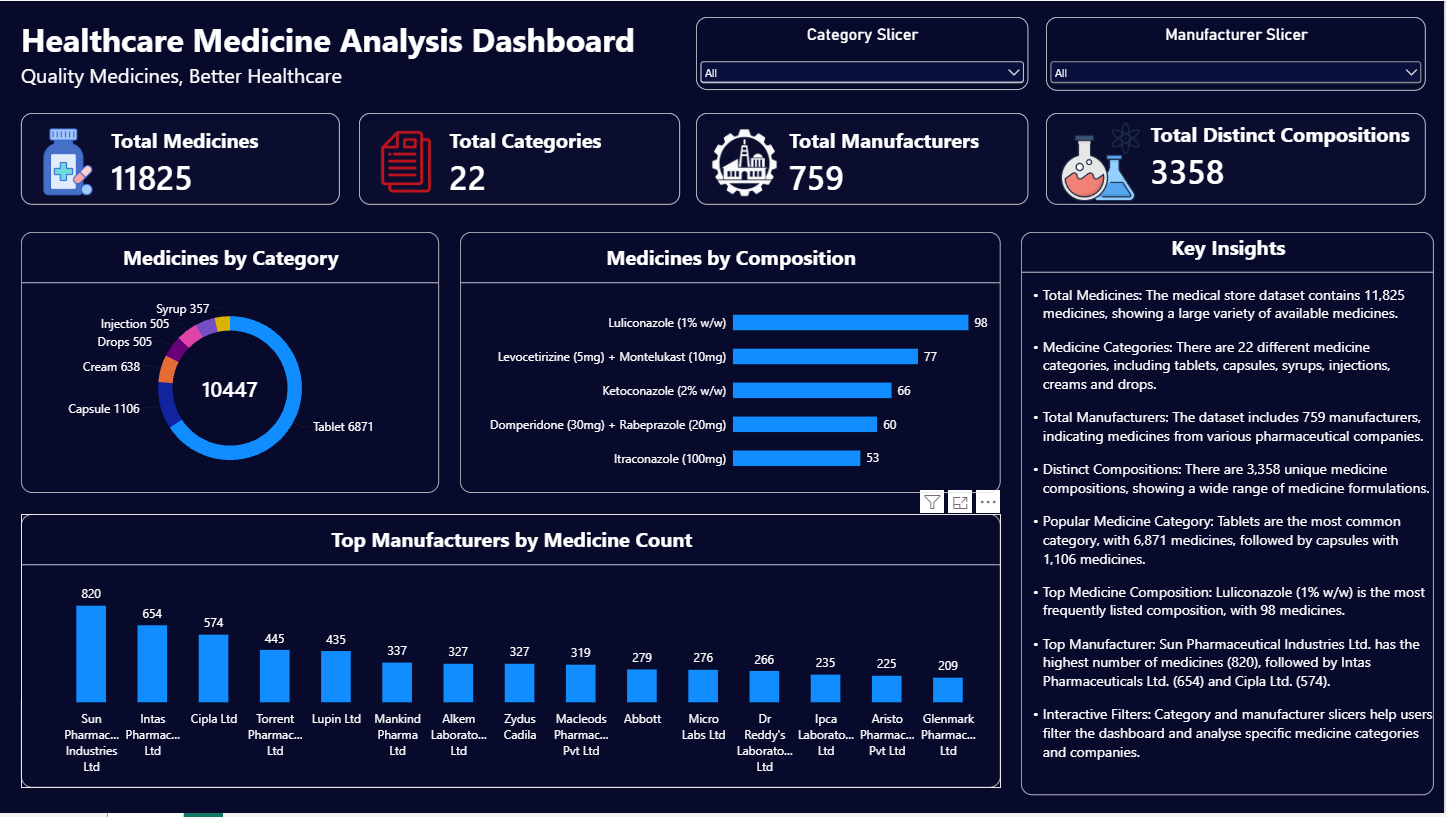

Layout of this report page (visuals, bound fields, positions):
{"tool":"powerbi","page":{"name":"Page 1","canvas":[1920,1080],"ordinal":0},"visuals":[{"type":"textbox","box":[27.9,21.3,853.9,78.5],"z":0},{"type":"cardVisual","fields":{"Data":["CountNonNull(Medicine_Details_Analysis.Medicine ID)"]},"box":[27.9,149,424.3,122.4],"z":1000},{"type":"cardVisual","title":"Total Manufacturer","fields":{"Data":["Medicine_Details_Analysis.Total Manufacturer"]},"box":[925.7,149,441.6,122.4],"z":2000},{"type":"cardVisual","title":"Total Category","fields":{"Data":["Count(Medicine_Details_Analysis.Category)"]},"box":[477.5,149,426.9,122.4],"z":3000},{"type":"donutChart","title":"Medicines by Category","fields":{"Category":["Medicine_Details_Analysis.Category"],"Y":["Count(Medicine_Details_Analysis.Medicine ID)"]},"box":[27.7,307.8,555.9,347.2],"z":4000},{"type":"columnChart","title":"Top Manufacturers by Medicine Count","fields":{"Category":["Medicine_Details_Analysis.Manufacturer"],"Y":["CountNonNull(Medicine_Details_Analysis.Medicine Name)"]},"box":[27.9,682.3,1303.4,364.4],"z":5000},{"type":"clusteredBarChart","title":"Medicines by Composition","fields":{"Category":["Medicine_Details_Analysis.Composition"],"Y":["CountNonNull(Medicine_Details_Analysis.Medicine ID)"]},"box":[611.3,307.8,719.3,347.2],"z":6000},{"type":"slicer","title":"Category Slicer","fields":{"Values":["Medicine_Details_Analysis.Category"]},"box":[925.7,21.3,441.6,97.1],"z":7000},{"type":"slicer","title":"Manufacturer Slicer","fields":{"Values":["Medicine_Details_Analysis.Manufacturer"]},"box":[1391.9,21.9,504.8,97.8],"z":8000},{"type":"cardVisual","fields":{"Data":["Count(Medicine_Details_Analysis.Composition)"]},"box":[1391.2,149,505.4,122.4],"z":9000},{"type":"textbox","box":[27.9,79.8,635.8,57.2],"z":10000},{"type":"textbox","title":"Key Insights","box":[1358,307.2,549.3,748.8],"z":11000}]}

Visuals, with their boxes in screenshot pixels (x1, y1, x2, y2), scaled from the page's 1920x1080 canvas onto the 1446x817 screenshot:
textbox: detection(21, 16, 664, 75)
cardVisual - CountNonNull(Medicine_Details_Analysis.Medicine ID): detection(21, 113, 341, 205)
"Total Manufacturer" cardVisual: detection(697, 113, 1030, 205)
"Total Category" cardVisual: detection(360, 113, 681, 205)
"Medicines by Category" donutChart: detection(21, 233, 440, 495)
"Top Manufacturers by Medicine Count" columnChart: detection(21, 516, 1003, 792)
"Medicines by Composition" clusteredBarChart: detection(460, 233, 1002, 495)
"Category Slicer" slicer: detection(697, 16, 1030, 90)
"Manufacturer Slicer" slicer: detection(1048, 17, 1428, 91)
cardVisual - Count(Medicine_Details_Analysis.Composition): detection(1048, 113, 1428, 205)
textbox: detection(21, 60, 500, 104)
"Key Insights" textbox: detection(1023, 232, 1436, 799)
